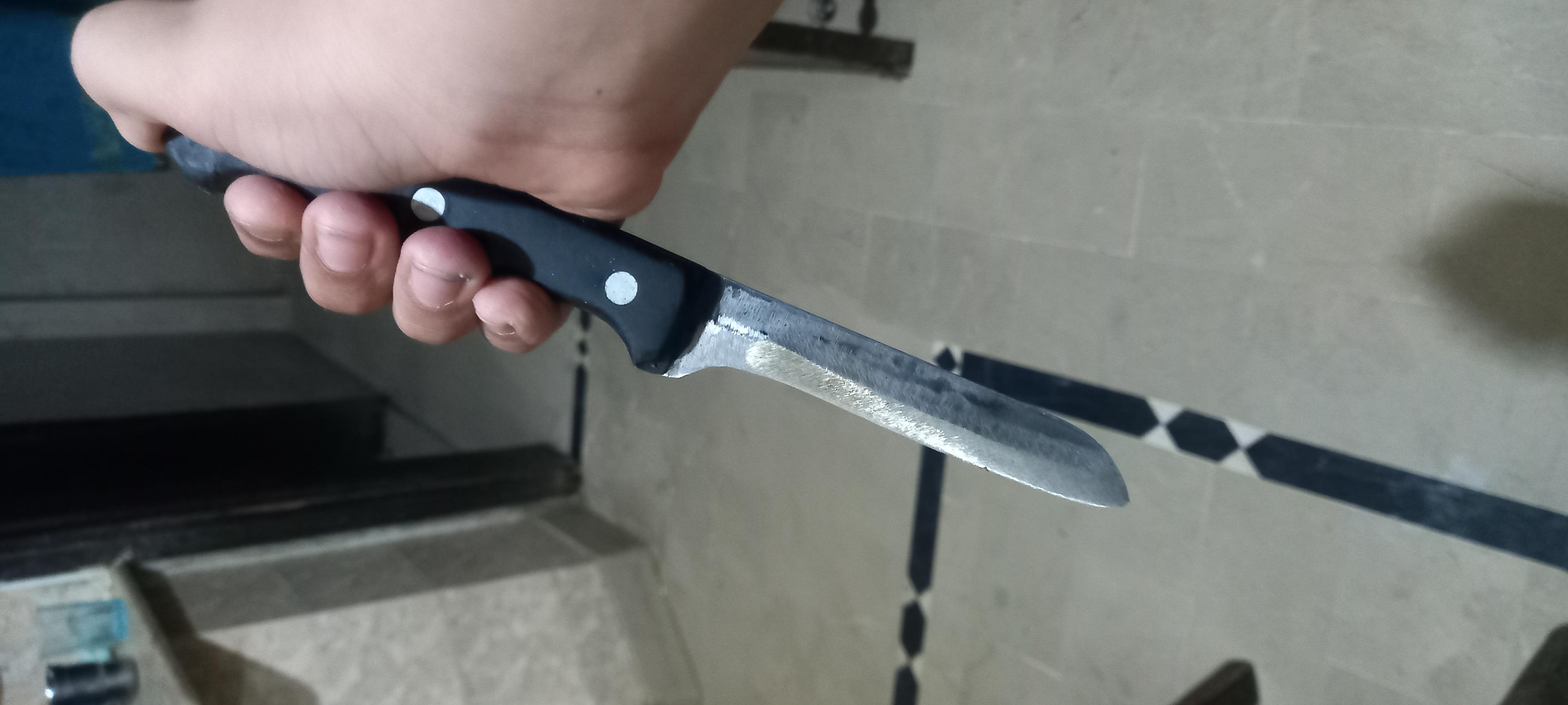knives: (428, 72, 1367, 531)
